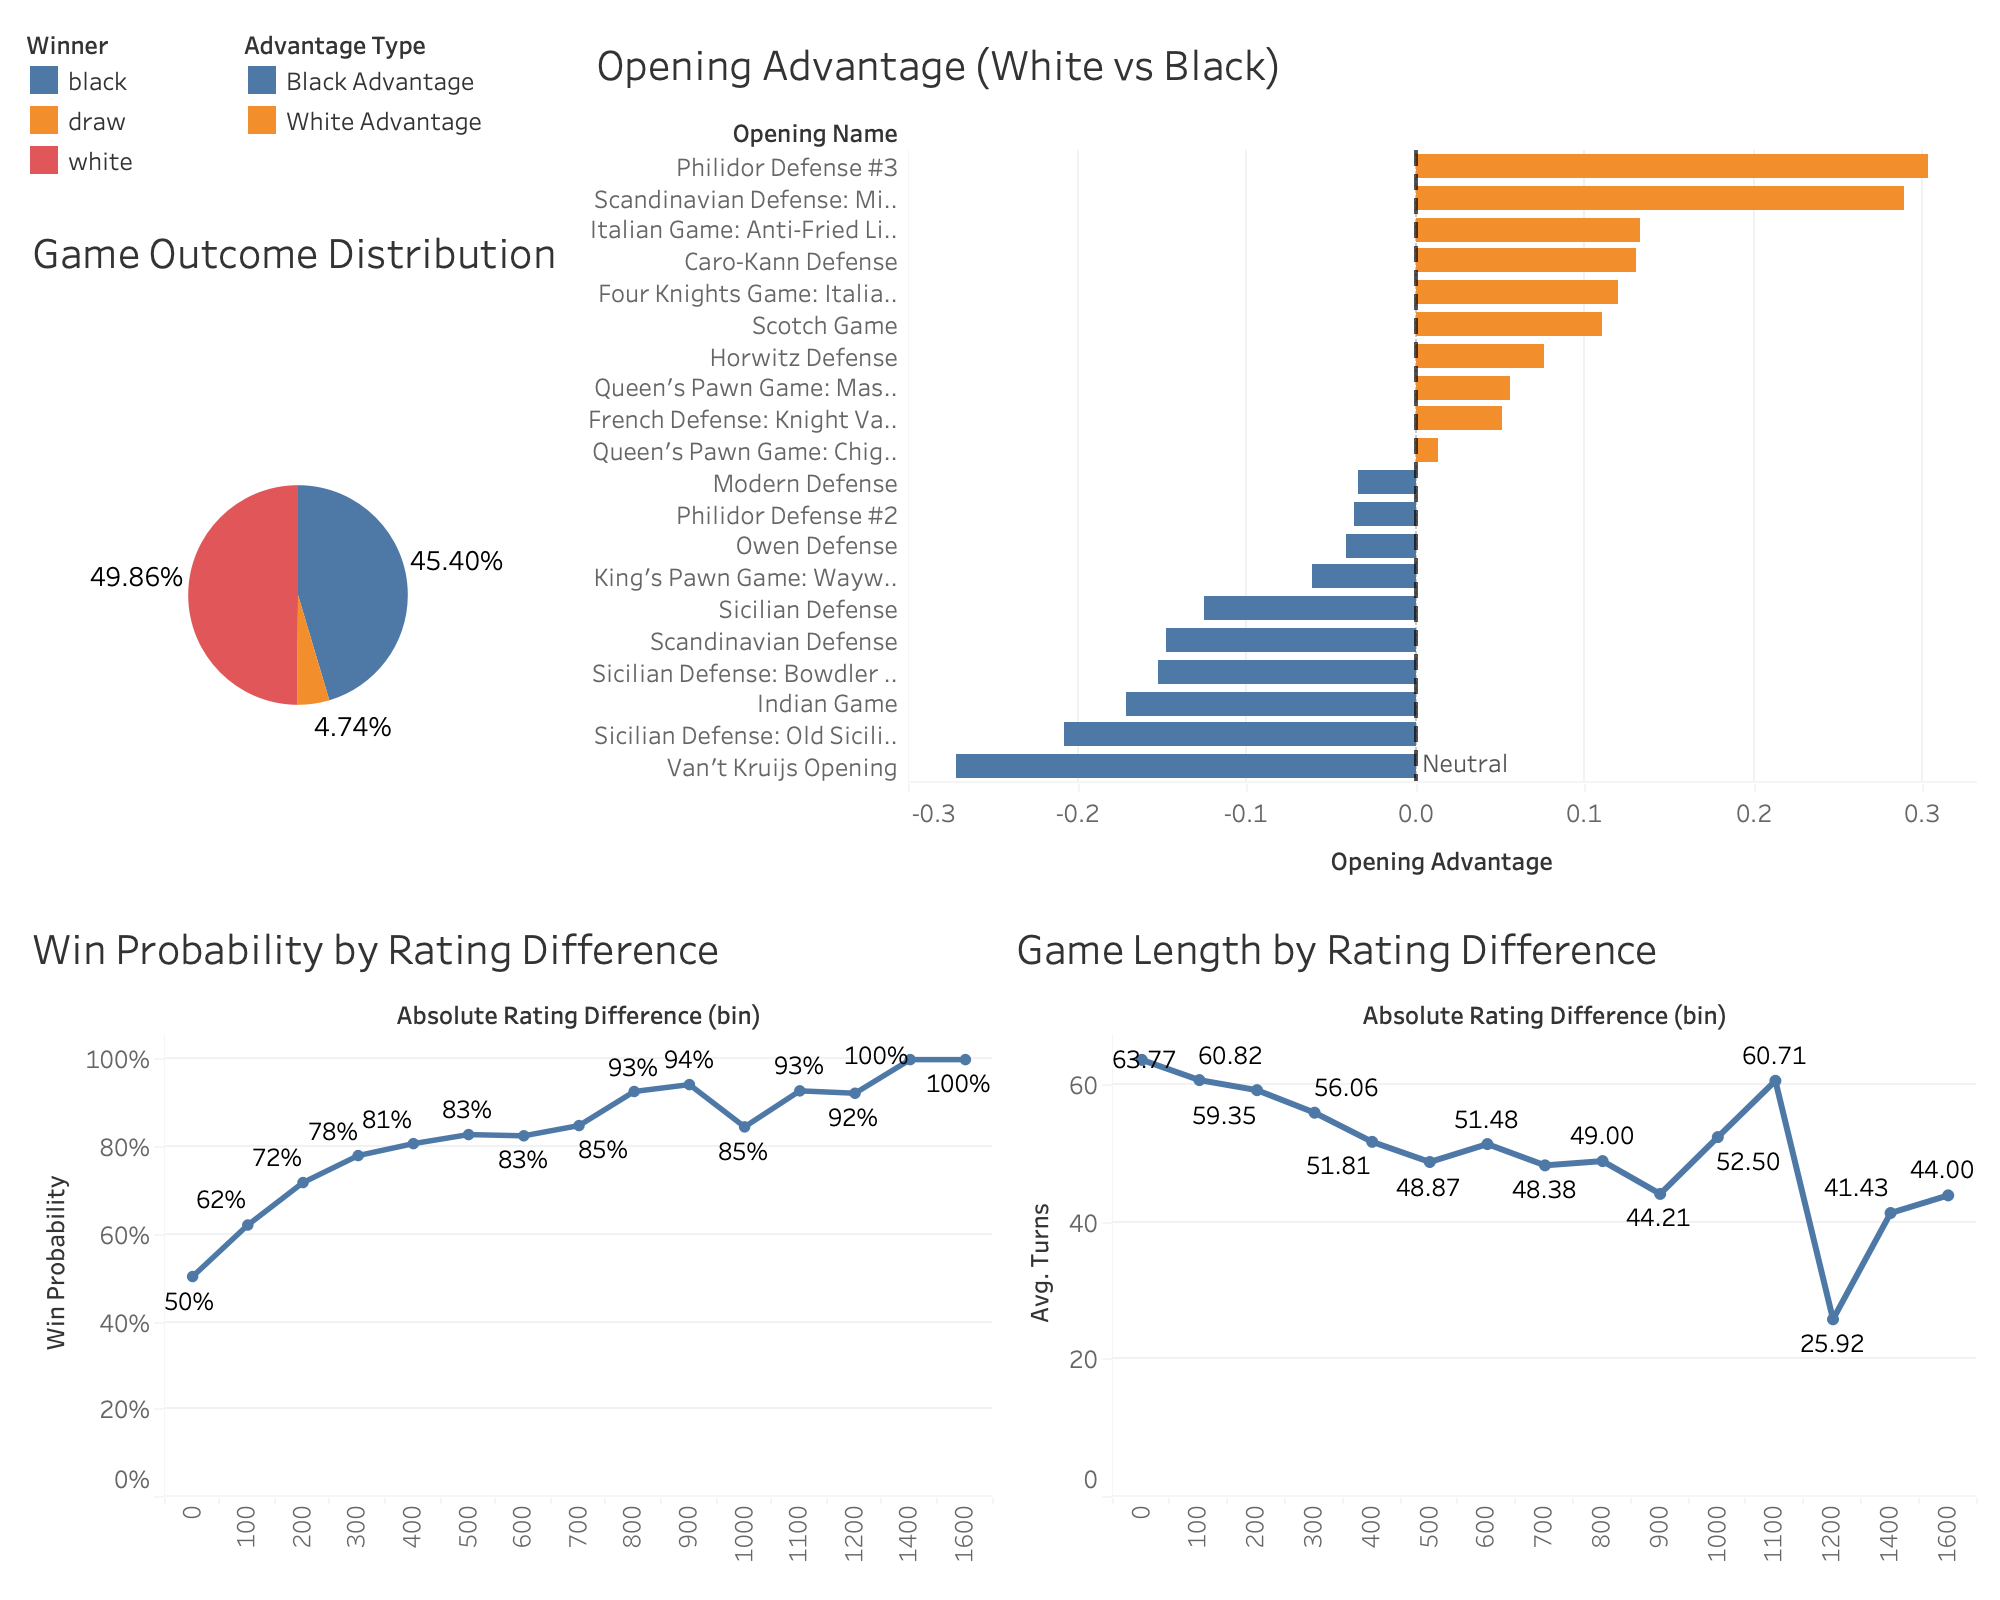

The dashboard page shown, as its layout file describes it:
{"tool":"tableau","page":{"name":"Chess Game Strategy & Skill Analysis","canvas":[1000,800],"ordinal":0},"visuals":[{"type":"legend","title":"Game Outcome Distribution","param":"[federated.1xkmkyi1yhkqen11ho4d11hoe4wk].[none:winner:nk]","box":[8,8,109,94]},{"type":"legend","title":"Opening Advantage (White vs Black)","param":"[federated.1xkmkyi1yhkqen11ho4d11hoe4wk].[usr:Calculation_0618864703803406:nk]","box":[117,8,173,94]},{"type":"worksheet","title":"Opening Advantage (White vs Black)","mark":"Automatic","rows":["opening_name"],"cols":["Calculation_0618864703488013"],"box":[290,8,702,442]},{"type":"worksheet","title":"Game Outcome Distribution","mark":"Pie","box":[8,102,282,348]},{"type":"worksheet","title":"Win Probability by Rating Difference","mark":"Line","rows":["Calculation_0618864684556298"],"cols":["Absolute Rating Difference (bin)"],"box":[8,450,492,342]},{"type":"worksheet","title":"Game Length by Rating Difference","mark":"Line","rows":["turns"],"cols":["Absolute Rating Difference (bin)"],"box":[500,450,492,342]}]}

Visuals, with their boxes in screenshot pixels (x1, y1, x2, y2), scaled from the page's 1000x800 canvas onto the 2000x1600 screenshot:
"Game Outcome Distribution" legend: [16,16,234,204]
"Opening Advantage (White vs Black)" legend: [234,16,580,204]
"Opening Advantage (White vs Black)" worksheet: [580,16,1984,900]
"Game Outcome Distribution" worksheet (Pie marks): [16,204,580,900]
"Win Probability by Rating Difference" worksheet (Line marks): [16,900,1000,1584]
"Game Length by Rating Difference" worksheet (Line marks): [1000,900,1984,1584]
